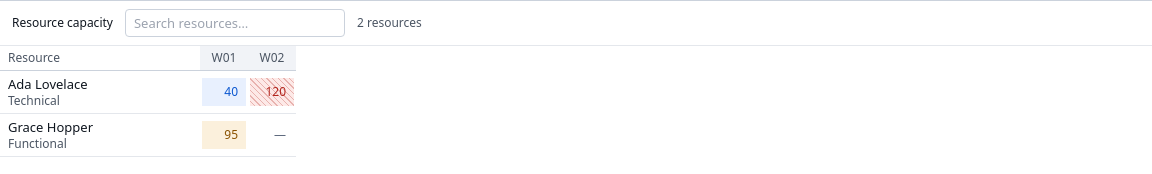
GanttCapacityPanel › filters rows on the haystack and announces the count
In the search field labelled "Search resources": [235, 23] box [125,9,345,37], type "integration"
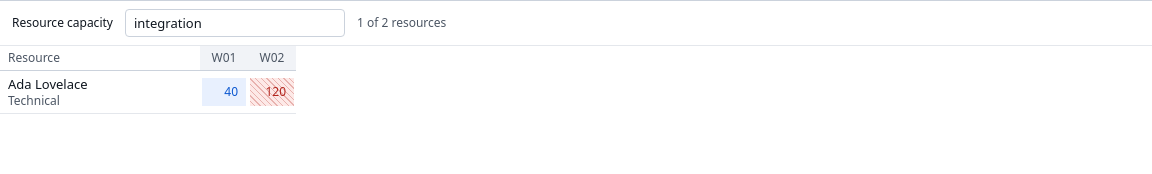
Expected: the column heading "Ada Lovelace Technical" is shown, [0,70,200,114]
Result: the text "Grace Hopper" is gone
Result: the message reads "1 of 2 resources" at [357,14,446,31]
